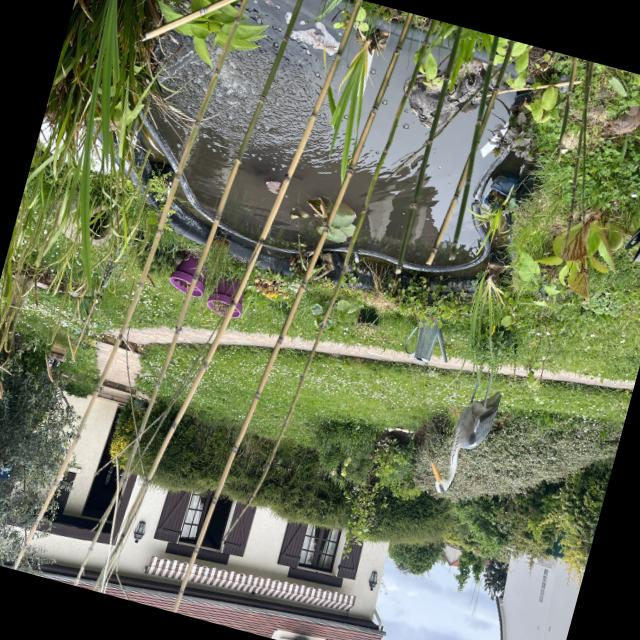Heron: (410, 311, 530, 518)
